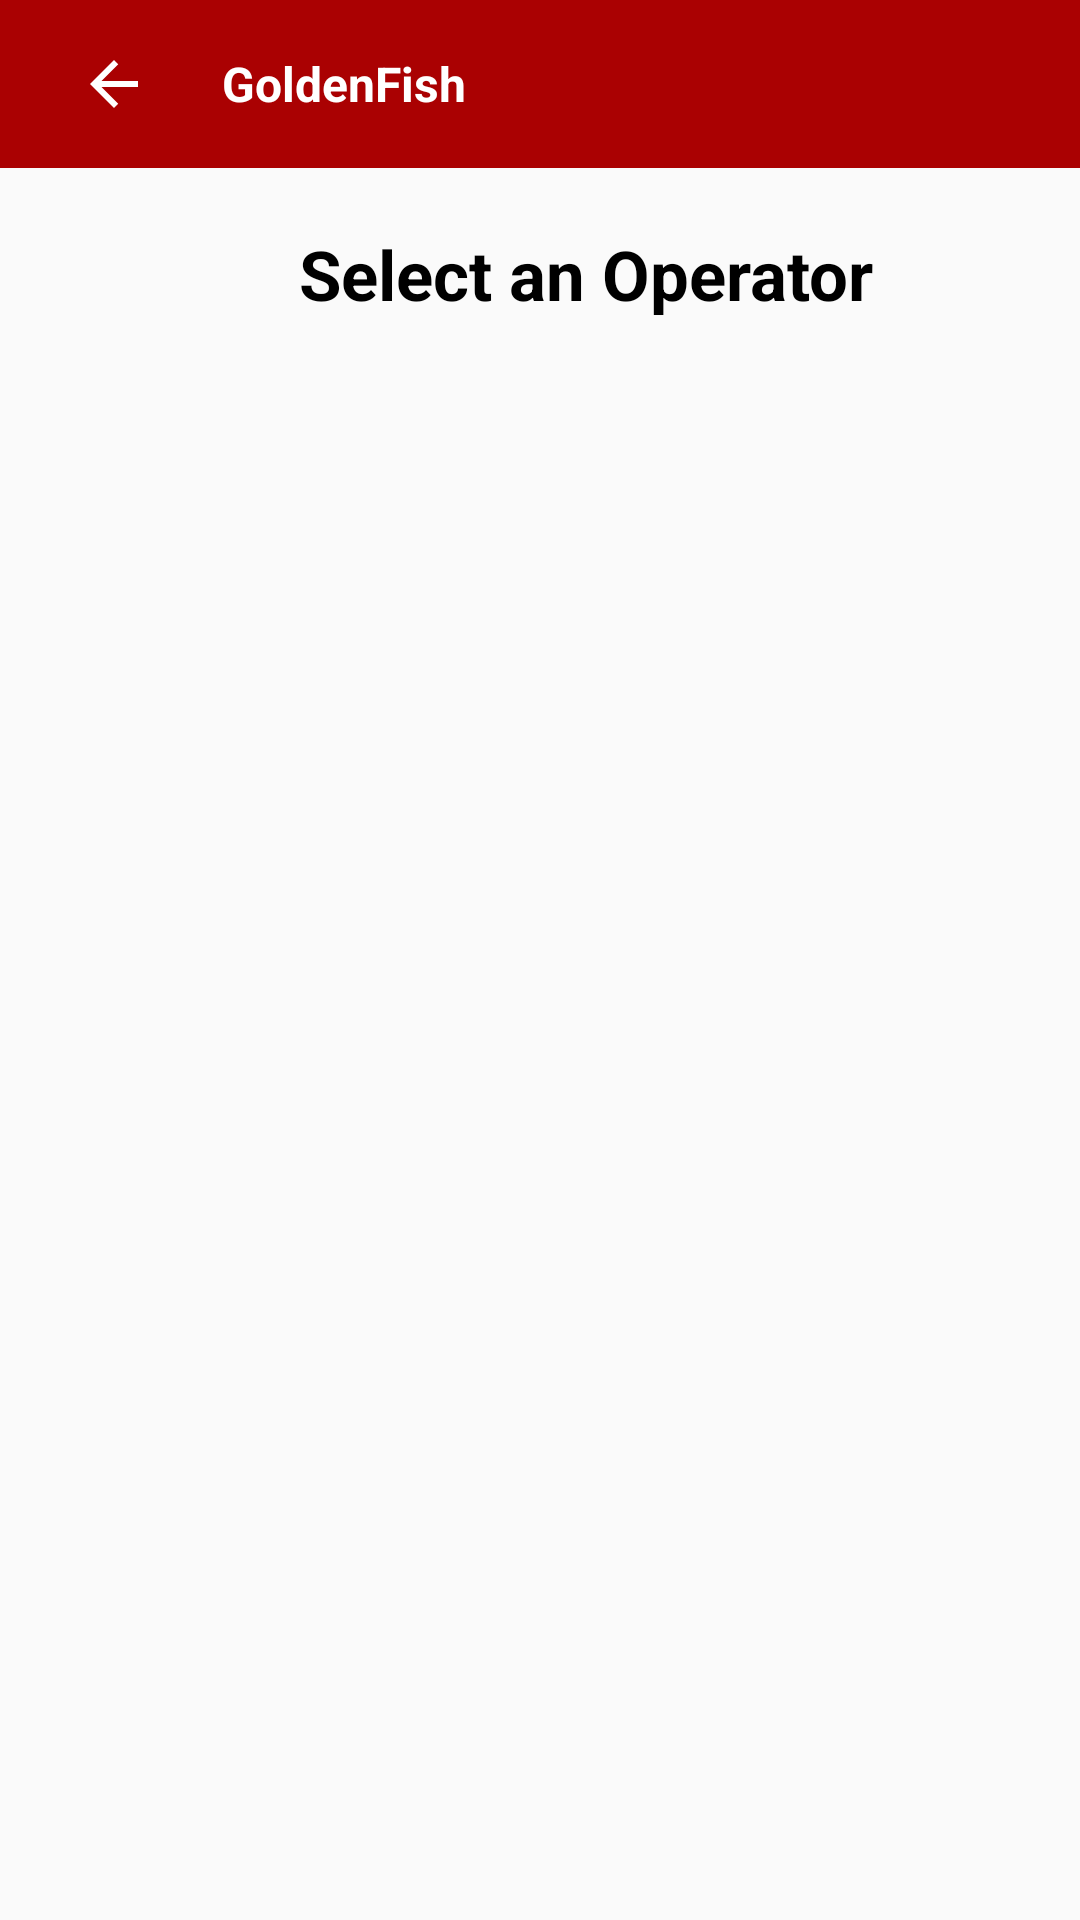

Screen size 1080px x 1920px. Icon name, then its center in pixels as (x,y):
back: (114,84)
